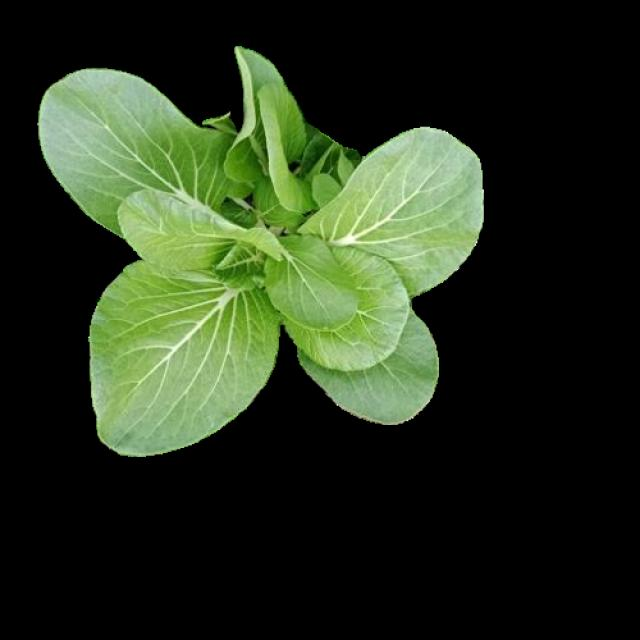healthy: (37, 45, 478, 453)
mature: (40, 47, 480, 456)
